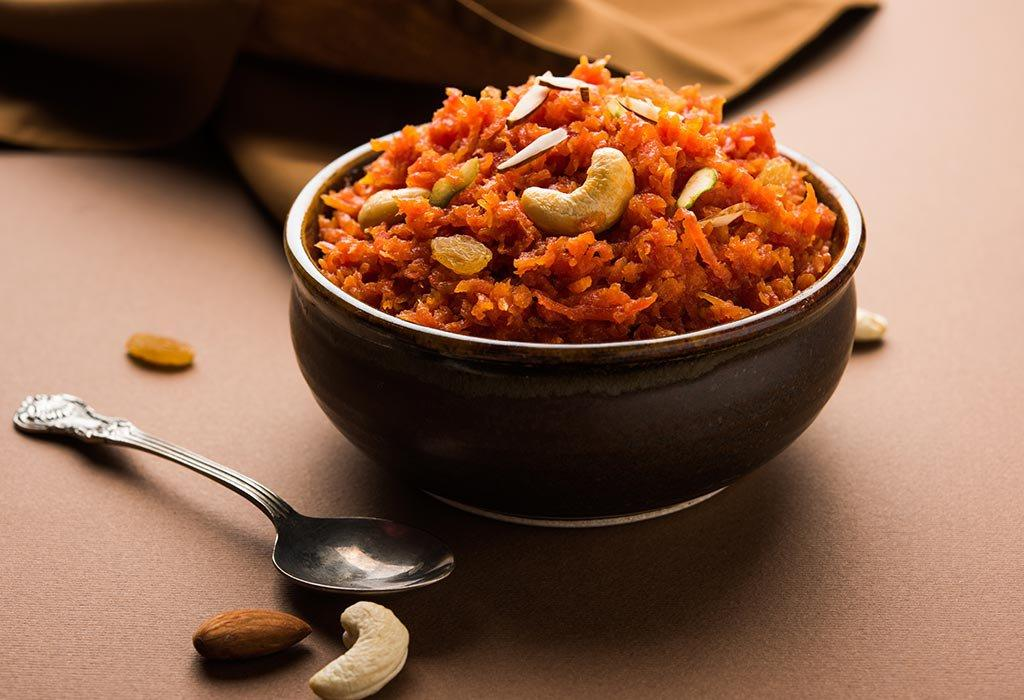Gajar ka halwa: (274, 47, 886, 521)
